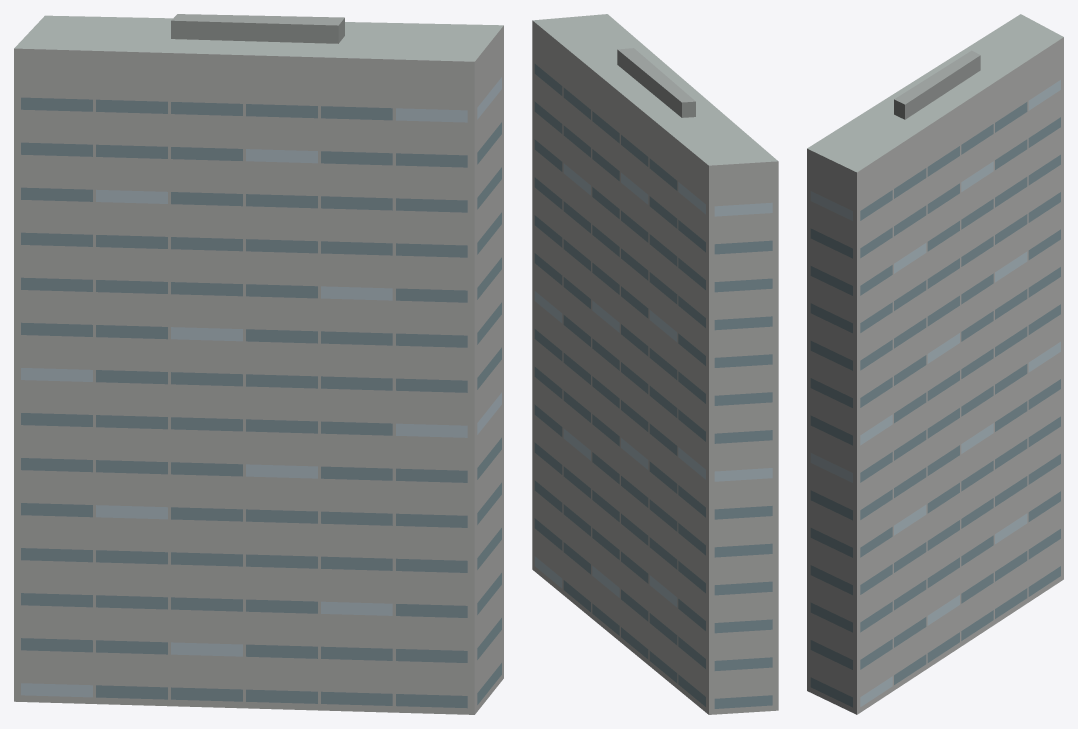
Rendered from fallback-jamsil-ricenz-242.glb.
The picture shows the model from 3 angles, left to right: view 1: azimuth 30°, elevation 25°; view 2: azimuth 150°, elevation 25°; view 3: azimuth 270°, elevation 25°; orthographic projection. The views are drawn at different scales.
Parts seen in each view (by area): view 1: fallback-jamsil-ricenz-242; view 2: fallback-jamsil-ricenz-242; view 3: fallback-jamsil-ricenz-242.
Part boxes in pixels (x1,y1,x2,y2): fallback-jamsil-ricenz-242: (14, 14, 503, 714); fallback-jamsil-ricenz-242: (532, 14, 778, 714); fallback-jamsil-ricenz-242: (807, 14, 1063, 714).
Size of the model in its own units: 53.67 by 88 by 36.76.
